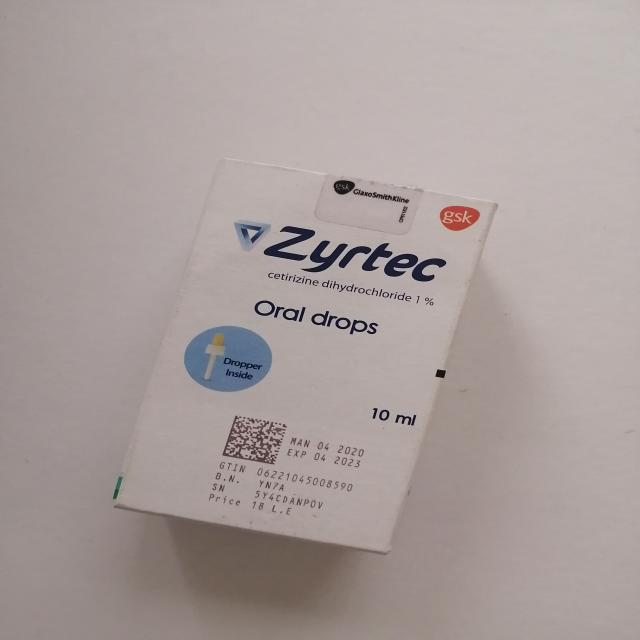Medicine: (106, 153, 503, 557)
